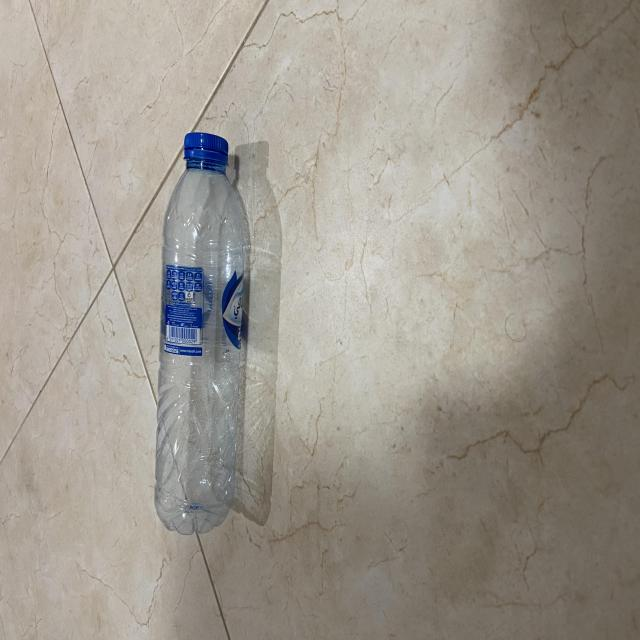bottle: (152, 120, 248, 542)
